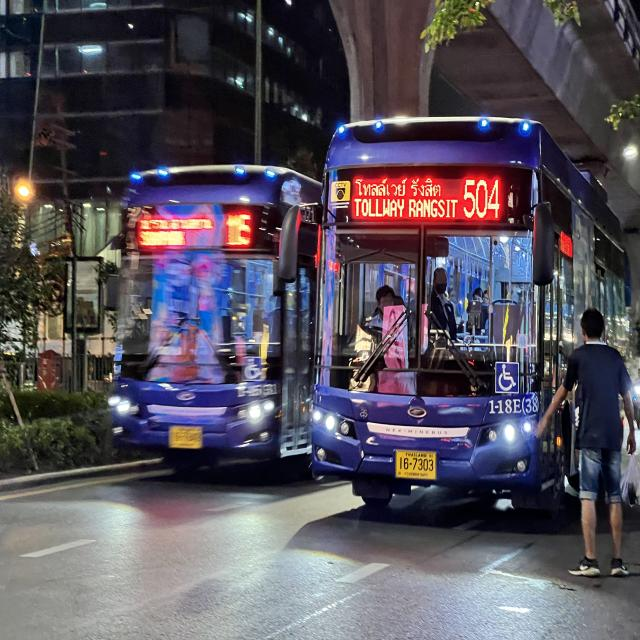Bus-Line-Number: (460, 175, 502, 225), (218, 210, 259, 248)
Destination-Sign-Normal: (350, 176, 460, 222), (138, 213, 218, 249)
TSB-Bus: (304, 108, 632, 526), (97, 153, 319, 479)
